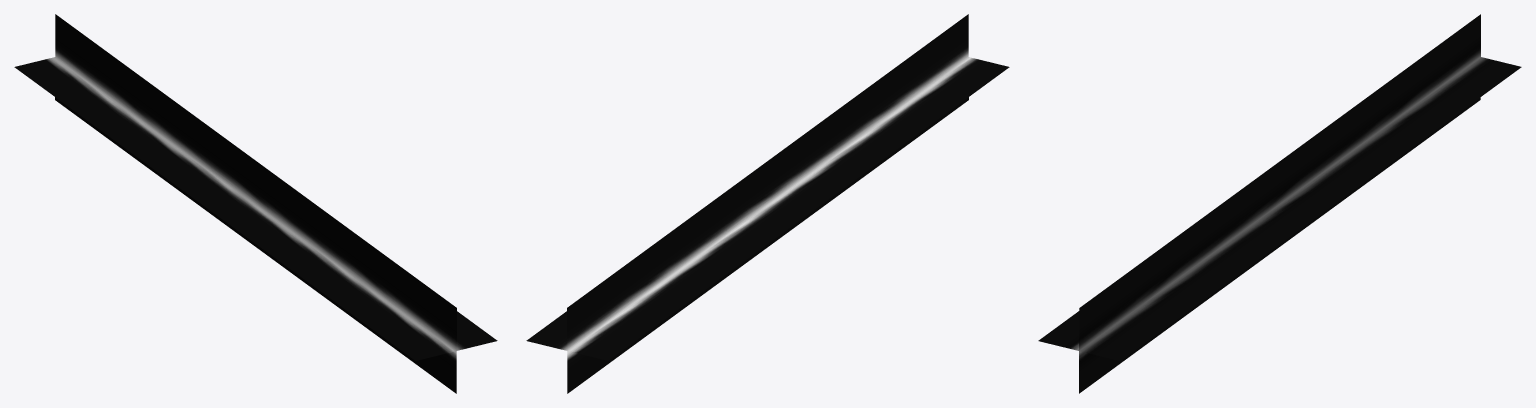
The model's file is 0468_xiantiao_M_03.glb.
3 renders of one model, left to right at view 1: azimuth 30°, elevation 25°; view 2: azimuth 150°, elevation 25°; view 3: azimuth 330°, elevation 25°, orthographic.
Bounding box in the file's own units: 0.2598 × 0.2598 × 2.2.
Materials: 1 (1 with a texture image).
